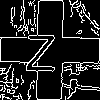Z: (25, 25, 56, 71)
